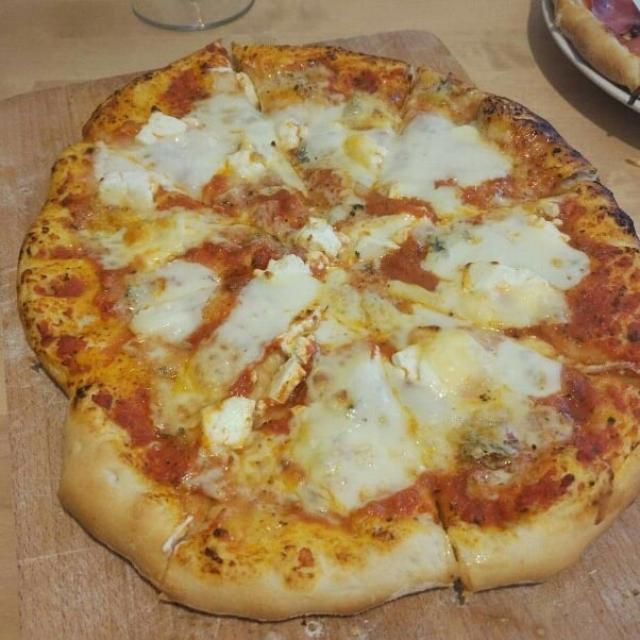pizza: (14, 32, 640, 626)
